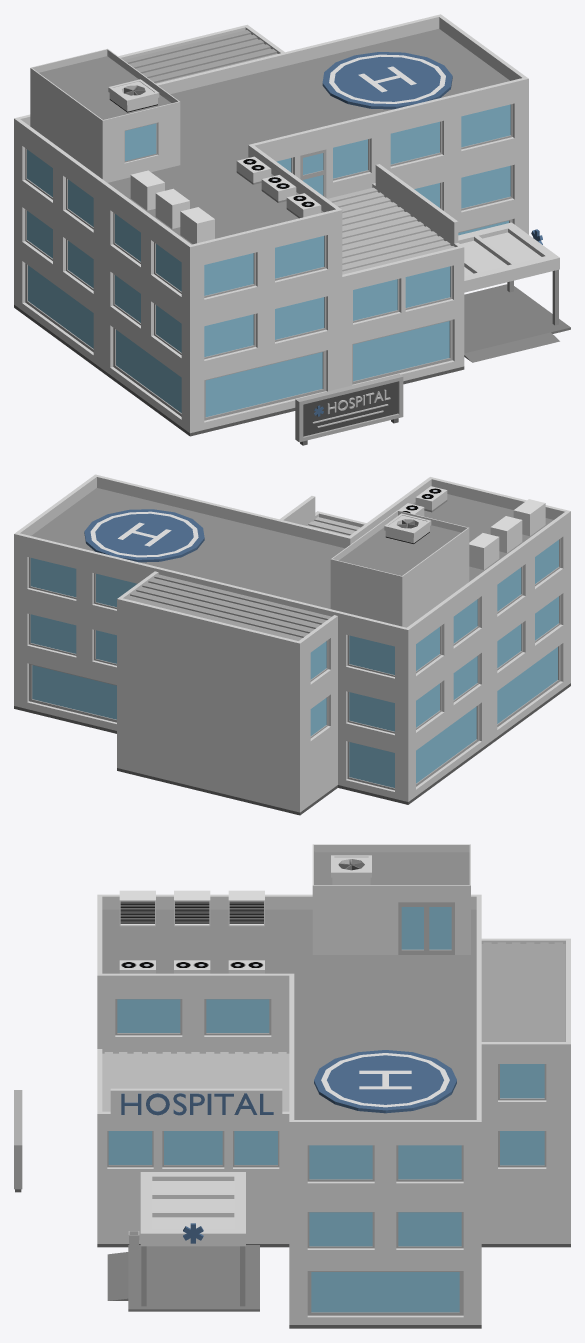
File: Hospital.fbx
The picture shows the model from 3 angles, top to bottom: view 1: azimuth 30°, elevation 25°; view 2: azimuth 150°, elevation 25°; view 3: azimuth 270°, elevation 25°; orthographic projection. The views are drawn at different scales.
Parts seen in each view (by area): view 1: Cube.055, vetri, Cube.025, Cube.036, Cube.058, frames, Plane.014, Cylinder.019, Cube.037, Cube.061, Plane.023, Cube.035 (+4 smaller); view 2: Cube.055, Cube.059, vetri, Cube.025, Cube.036, Plane.023, Cylinder.019, frames, Cube.037, Plane.020, Cube.058, Cube.056 (+2 smaller); view 3: Cube.055, Cube.025, vetri, Cube.059, Cube.058, Cube.036, Plane.023, Plane.014, Cylinder.019, frames, Cube.037, Plane.015 (+6 smaller).
Part boxes in pixels (bbox=[...]): Cube.055: bbox=[14, 14, 528, 433]; vetri: bbox=[27, 104, 541, 416]; Cube.025: bbox=[108, 29, 509, 244]; Cube.036: bbox=[30, 48, 180, 182]; Cube.058: bbox=[14, 284, 570, 436]; frames: bbox=[25, 104, 512, 420]; Plane.014: bbox=[327, 187, 454, 274]; Cylinder.019: bbox=[322, 52, 452, 109]; Cube.037: bbox=[130, 156, 321, 244]; Cube.061: bbox=[295, 374, 403, 445]; Plane.023: bbox=[123, 30, 277, 83]; Cube.035: bbox=[342, 164, 464, 281]; Cube.055: bbox=[14, 474, 570, 801]; Cube.059: bbox=[117, 571, 337, 812]; vetri: bbox=[30, 540, 558, 787]; Cube.025: bbox=[31, 488, 553, 608]; Cube.036: bbox=[330, 510, 469, 627]; Plane.023: bbox=[124, 574, 331, 640]; Cylinder.019: bbox=[84, 509, 204, 562]; frames: bbox=[29, 538, 560, 790]; Cube.037: bbox=[398, 486, 545, 569]; Plane.020: bbox=[339, 525, 460, 575]; Cube.058: bbox=[14, 683, 570, 815]; Cube.056: bbox=[384, 513, 431, 543]; Cube.055: bbox=[97, 894, 481, 1324]; Cube.025: bbox=[102, 909, 476, 1119]; vetri: bbox=[108, 907, 544, 1312]; Cube.059: bbox=[481, 938, 570, 1243]; Cube.058: bbox=[97, 1244, 570, 1328]; Cube.036: bbox=[312, 844, 470, 954]; Plane.023: bbox=[481, 942, 565, 1041]; Plane.014: bbox=[102, 1052, 289, 1111]; Cylinder.019: bbox=[314, 1050, 456, 1113]; frames: bbox=[107, 902, 546, 1315]; Cube.037: bbox=[119, 890, 264, 973]; Plane.015: bbox=[140, 1172, 245, 1246].
Bounding box in the file's own units: 2800 × 1546 × 2898.
Materials: 4 (2 with a texture image).
